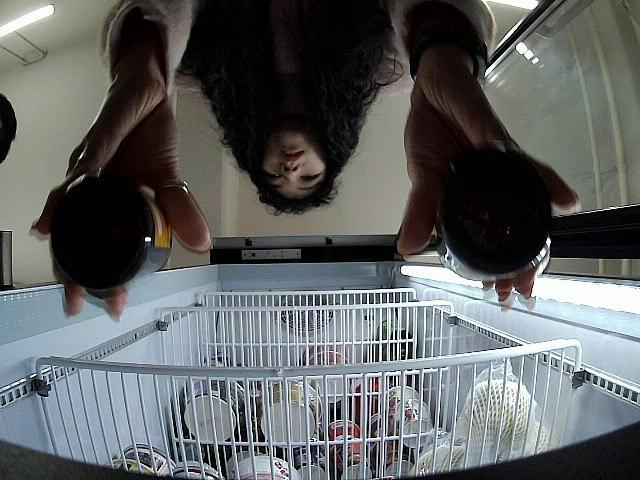17_vita500: (436, 161, 552, 284), (50, 183, 173, 288)
